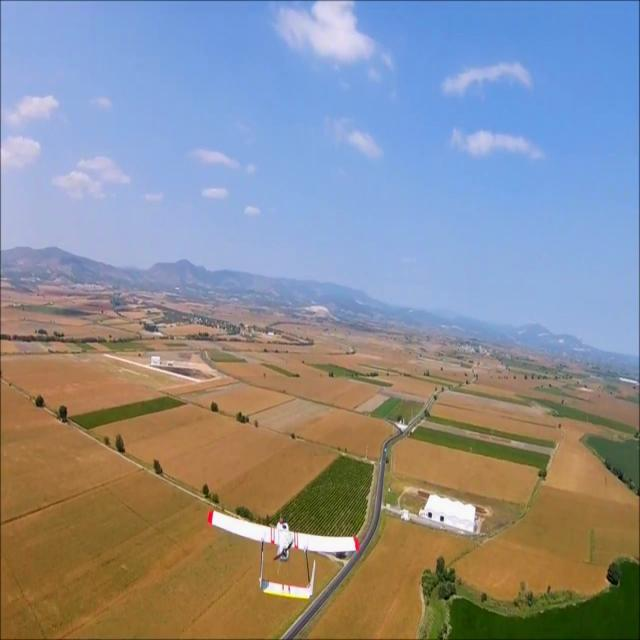iha: (204, 537, 363, 569)
